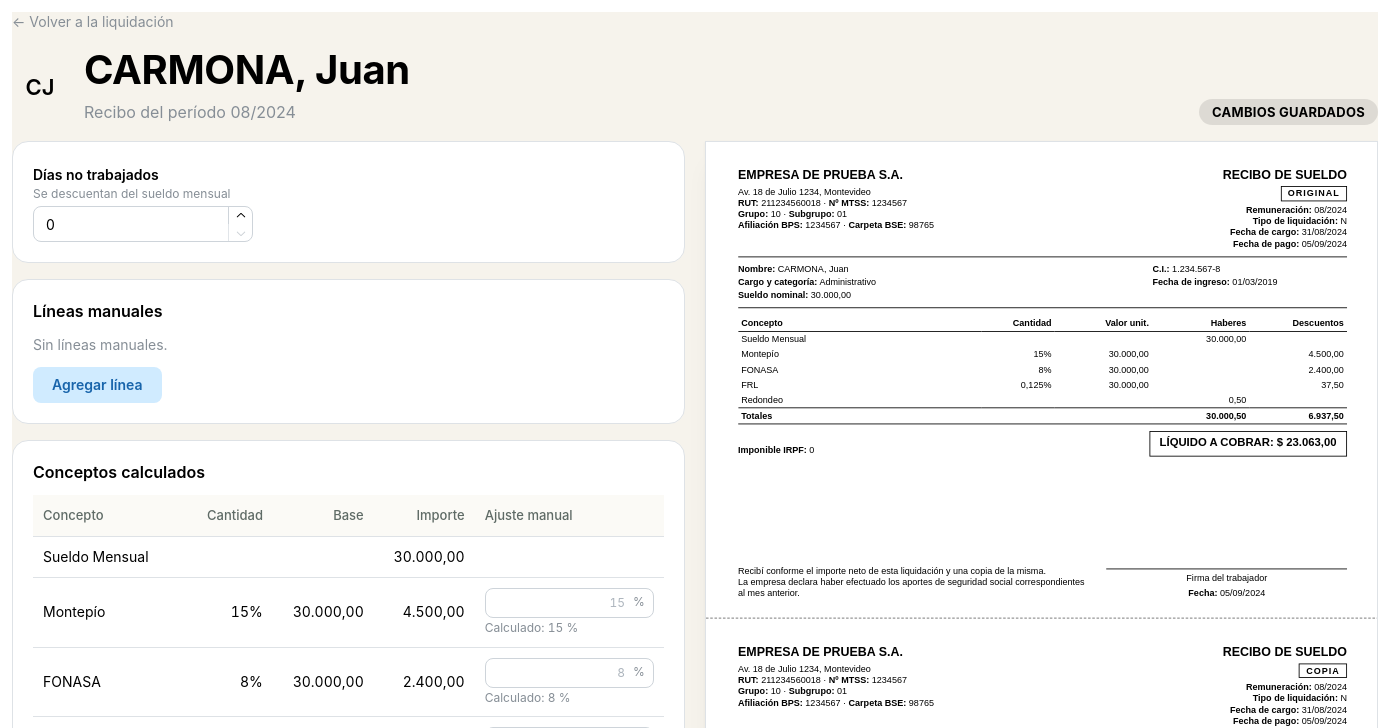
ReciboEditorPage › rejects an out-of-range rate without saving it
This screenshot has width=1378, height=728.
In the field named "Ajuste FONASA": (569, 673) [485,658,654,688], type "150"
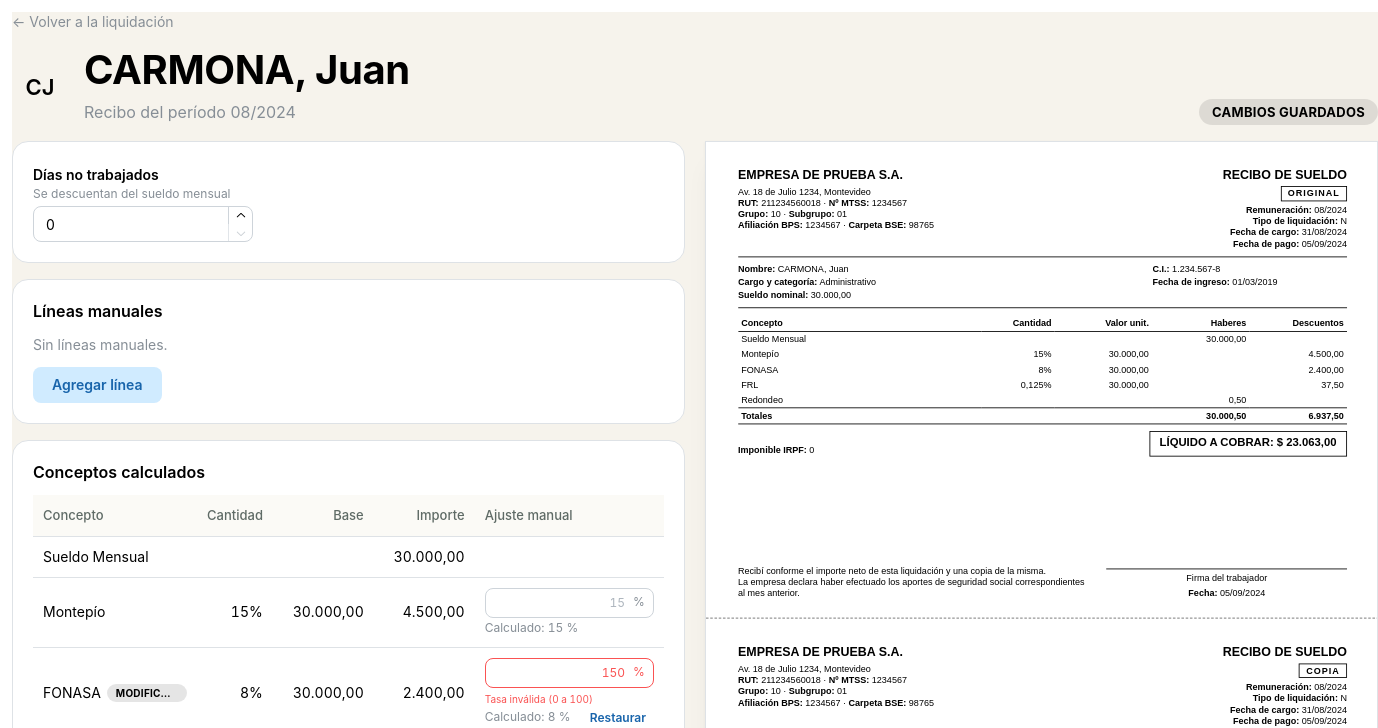
Expected: the element with test id "estado-guardado" reads "Cambios guardados", [1212,104,1365,120]
Result: the text "Tasa inválida (0 a 100)" is shown at [485,693,593,705]
